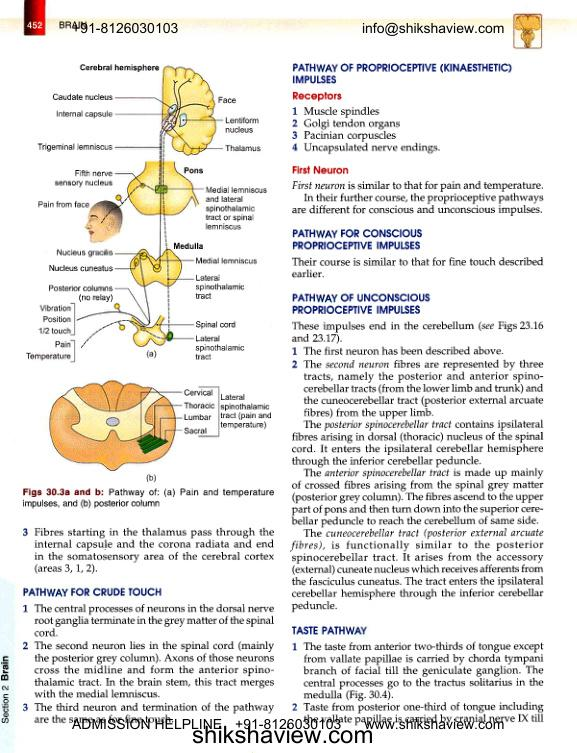caption: (20, 486, 276, 510), (145, 473, 158, 484), (146, 349, 158, 360)
image: (22, 57, 270, 369), (26, 374, 275, 485)
list: (20, 602, 275, 724), (290, 641, 546, 726), (290, 345, 545, 420), (21, 526, 275, 575), (290, 105, 441, 156)
sub-section-heading: (292, 61, 513, 85), (292, 292, 431, 316), (291, 227, 423, 251), (22, 586, 163, 598), (291, 625, 368, 636), (291, 164, 350, 176), (292, 90, 342, 103)
text: (290, 420, 545, 614), (291, 180, 544, 218), (291, 320, 544, 345), (290, 256, 544, 280)
